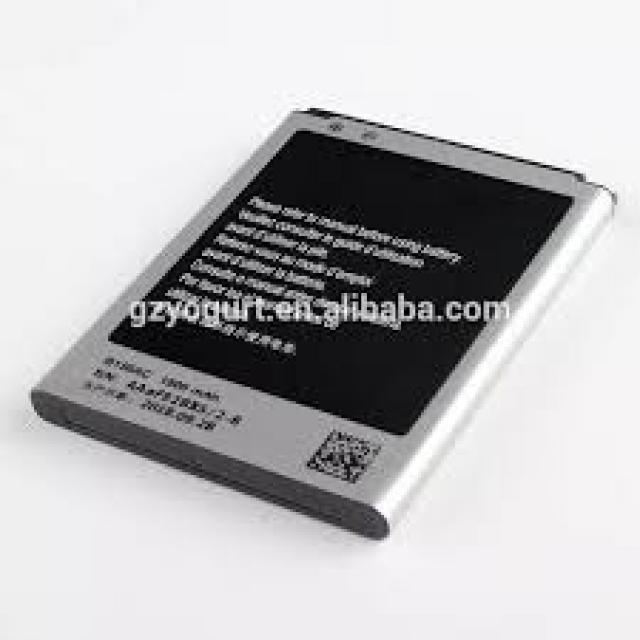battery: (30, 105, 620, 545)
